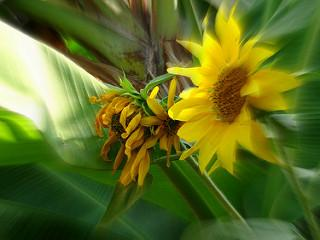sunflower: (168, 4, 293, 171), (91, 90, 168, 186)
